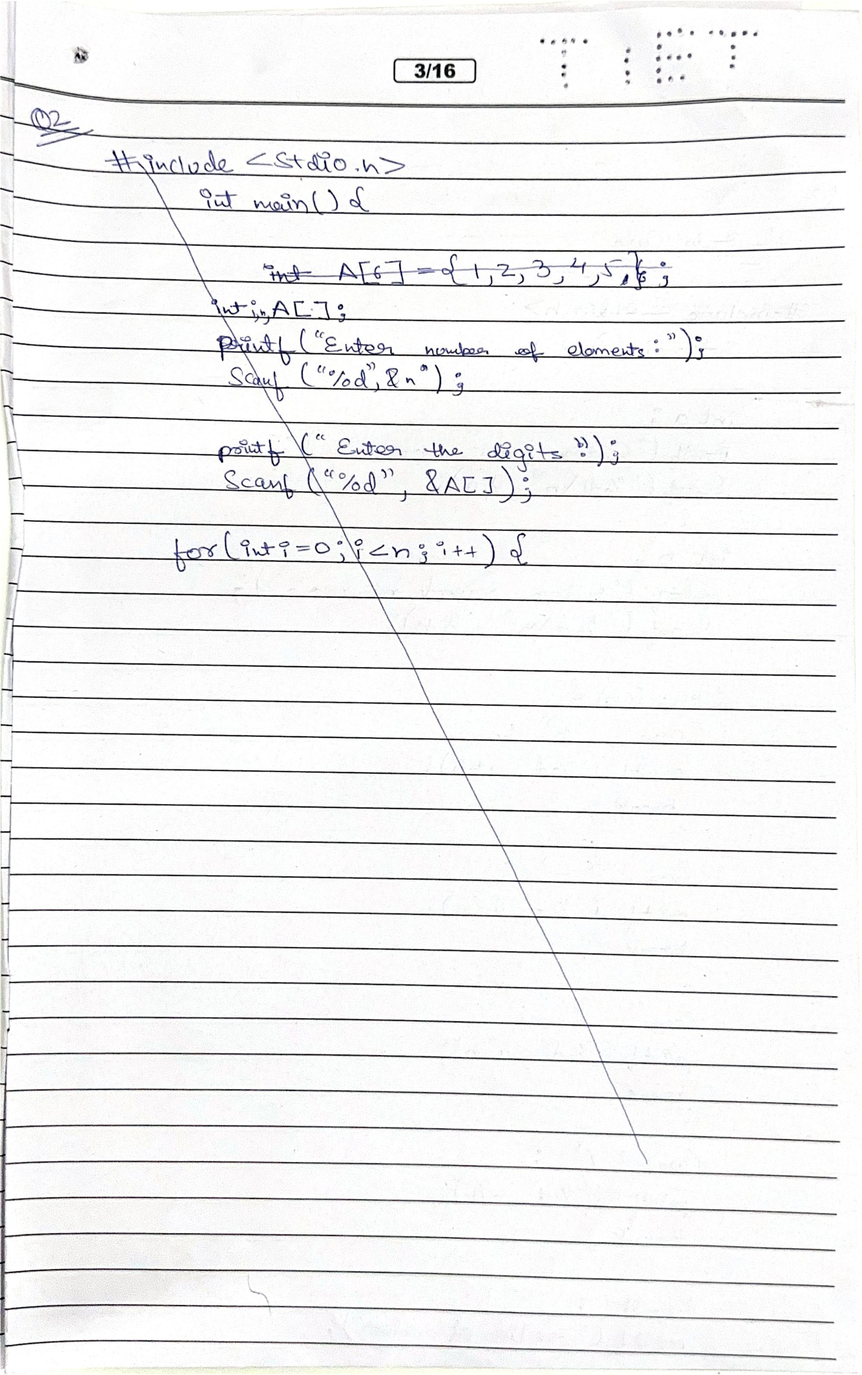cuttings: (105, 146, 710, 1167), (29, 105, 99, 149)
